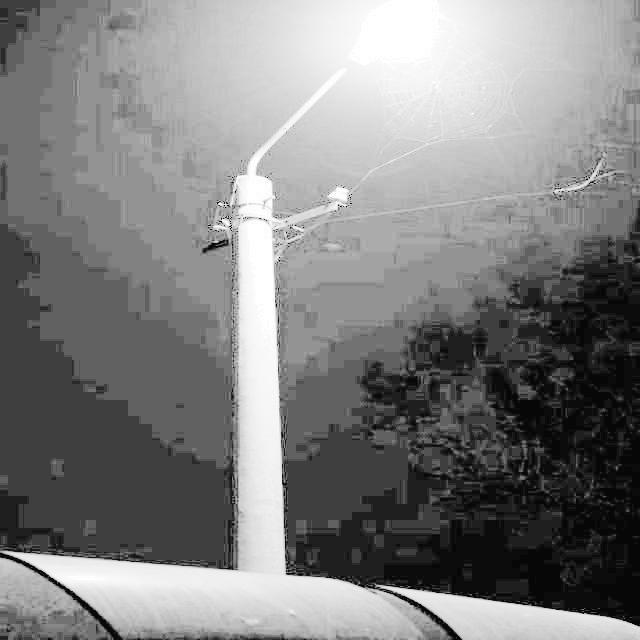Light: (348, 0, 445, 75)
